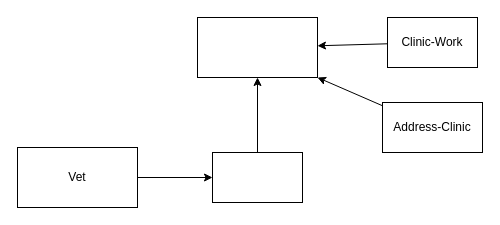
This 500x225 diagram has some shape labels left out. Each missing label, with the centre of its shape:
Clinic: the point at 257,47
Clinic_vet: the point at 257,177
